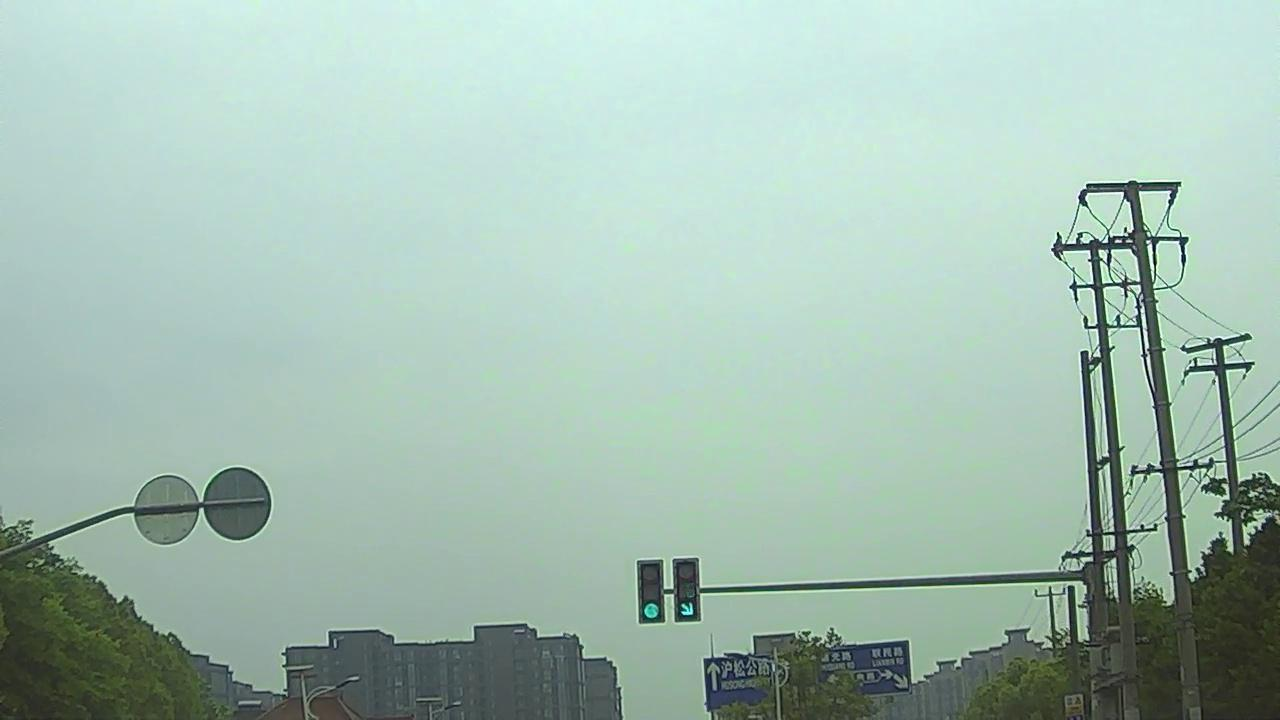traffic_light: (639, 560, 664, 621), (675, 559, 698, 617)
